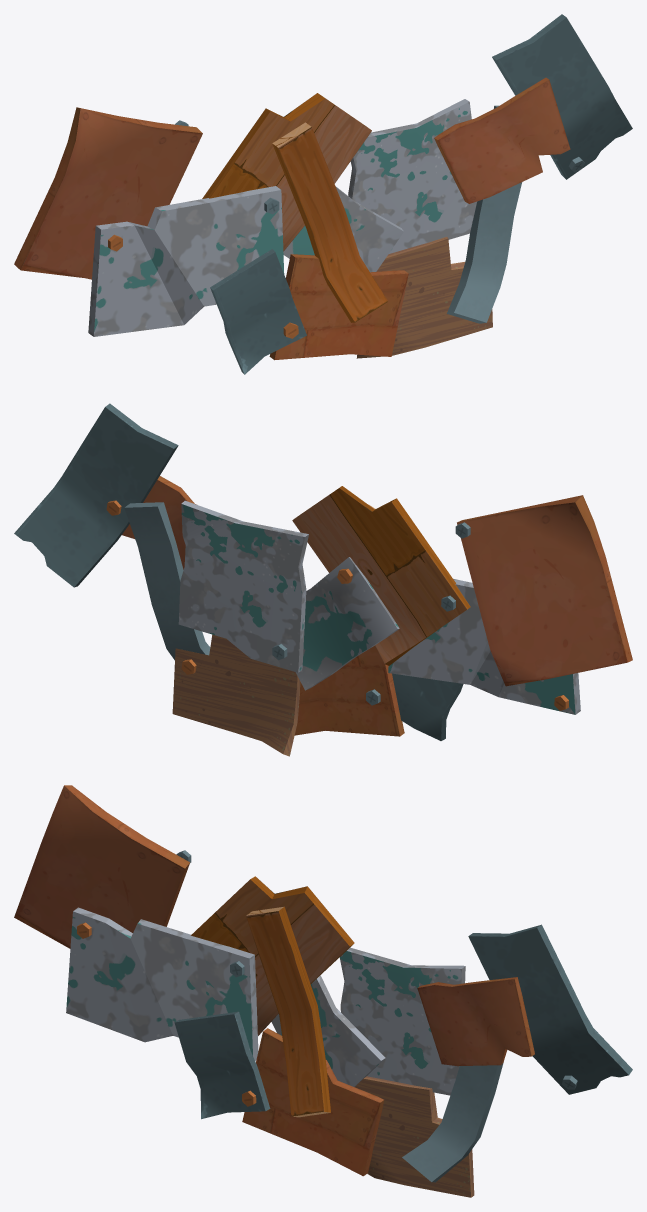
Rendered from env_hideout_wallscrap02.fbx.
The picture shows the model from 3 angles, top to bottom: view 1: azimuth 30°, elevation 25°; view 2: azimuth 150°, elevation 25°; view 3: azimuth 330°, elevation 25°; orthographic projection. The views are drawn at different scales.
Visible parts, largest first — view 1: wall2; view 2: wall2; view 3: wall2.
Boxes of the visible parts, box(x1,y1,x2,y2) form: wall2: box(14, 14, 632, 374); wall2: box(14, 403, 632, 756); wall2: box(14, 785, 632, 1197).
Size of the model in its own units: 76.52 by 38.71 by 8.68.
